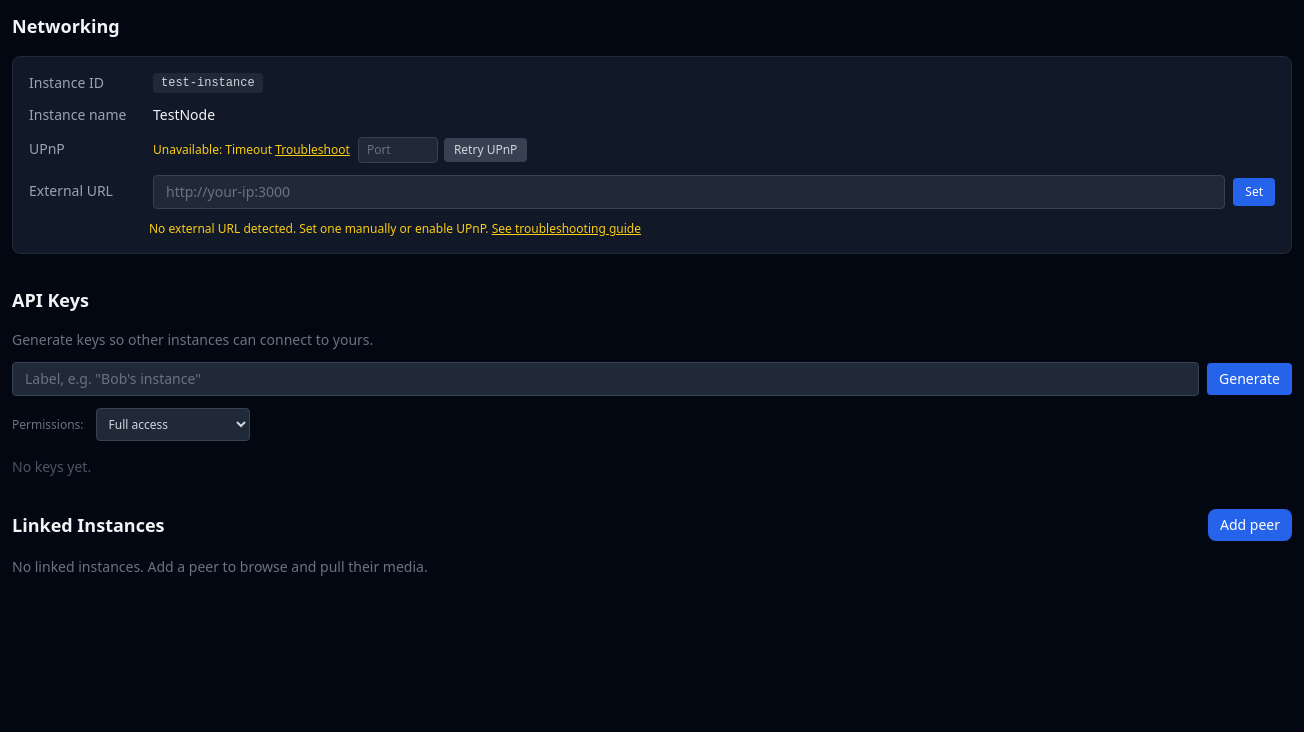
Test case: Peers › UPnP retry › shows error message when retry fails
This screenshot has width=1304, height=732.
Click the button "Retry UPnP": x=486, y=150 [444, 138, 527, 162]
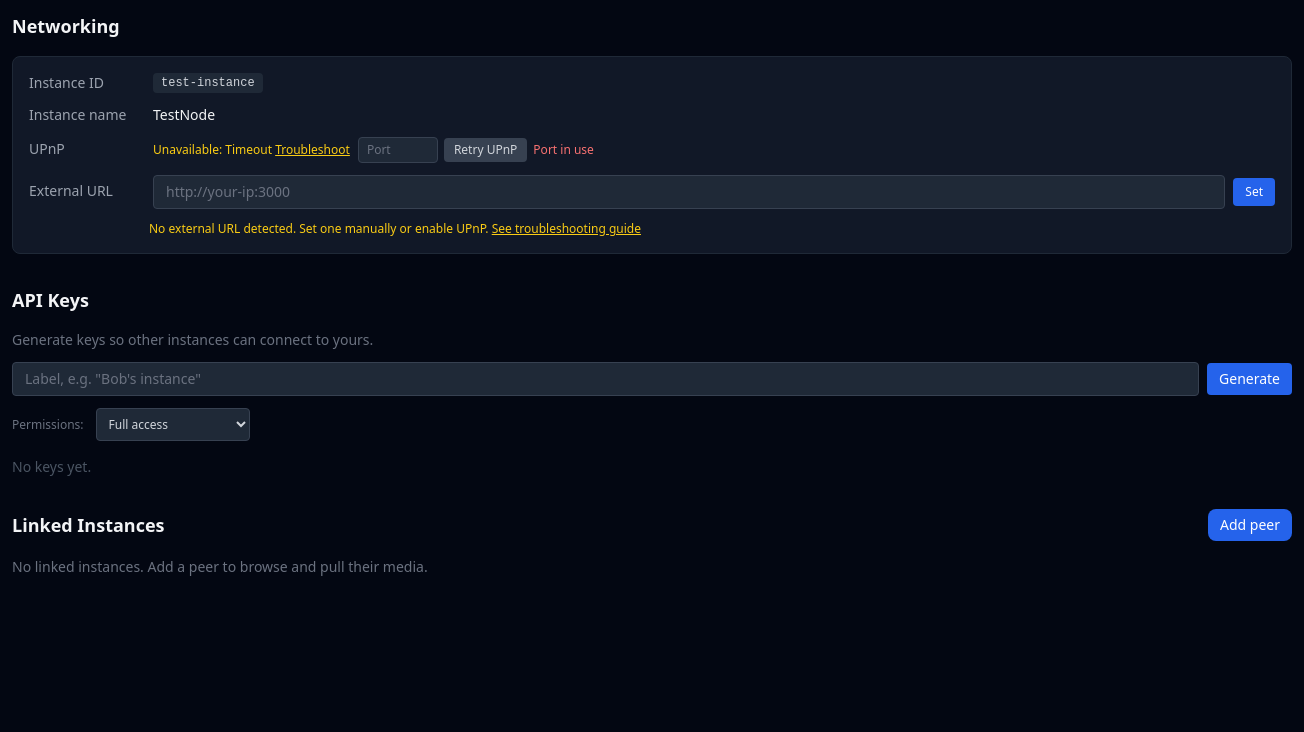
Now the text "Port in use" is shown, box [533, 142, 594, 158]
